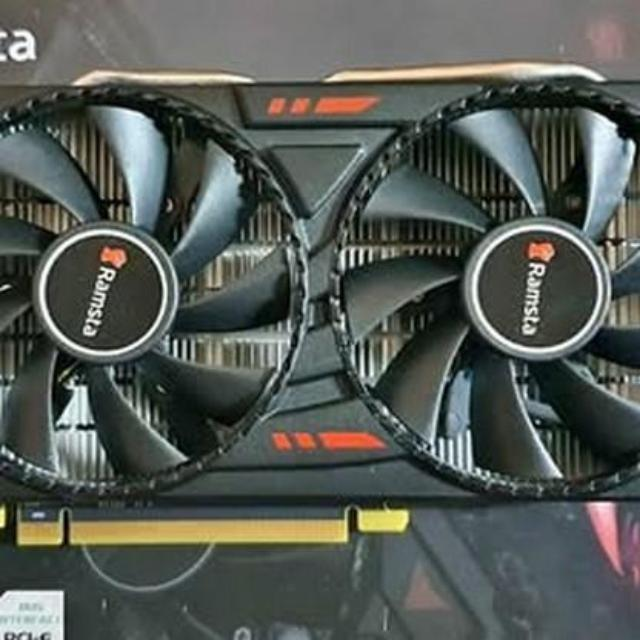GPU: (0, 54, 640, 546)
